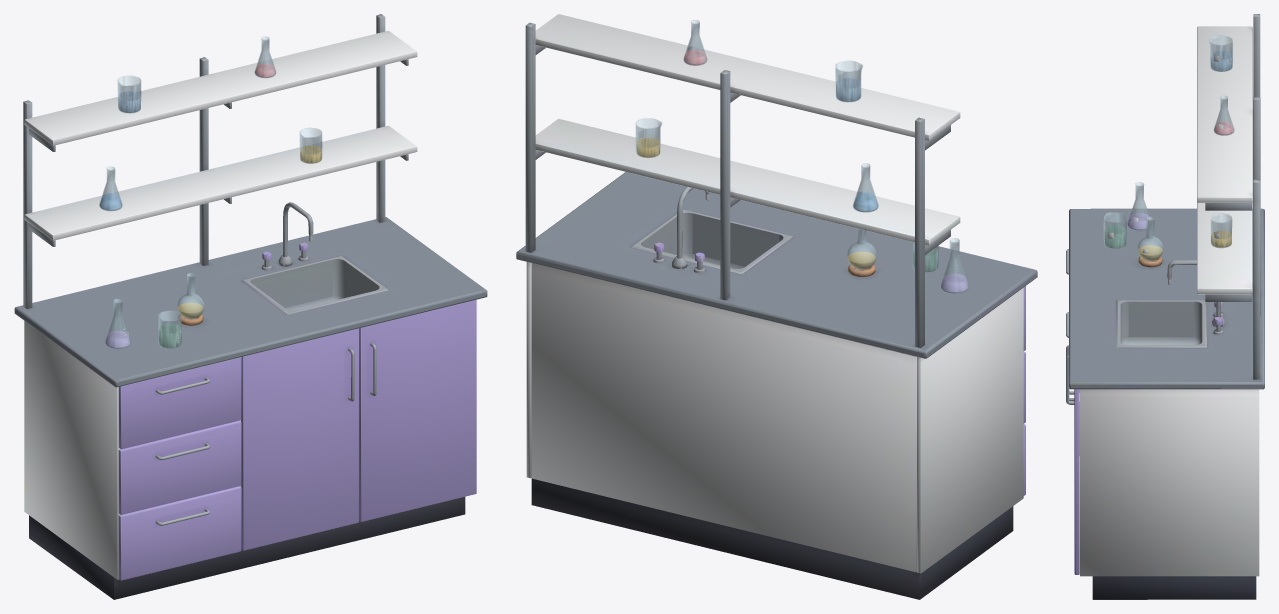
File: lab-bench.glb
The picture shows the model from 3 angles, left to right: view 1: azimuth 30°, elevation 25°; view 2: azimuth 150°, elevation 25°; view 3: azimuth 270°, elevation 25°; orthographic projection. The views are drawn at different scales.
Visible parts, largest first — view 1: lab-bench_body, lab-bench_door_left, lab-bench_door_right, lab-bench_drawer_3, lab-bench_drawer_2, lab-bench_drawer_1, lab-bench_glassware_glass, lab-bench_liquid_fluid; view 2: lab-bench_body, lab-bench_glassware_glass, lab-bench_liquid_fluid; view 3: lab-bench_body, lab-bench_glassware_glass, lab-bench_liquid_fluid, lab-bench_door_right.
Boxes of the visible parts, bbox=[...] form: lab-bench_body: bbox=[14, 14, 487, 599]; lab-bench_door_left: bbox=[241, 328, 359, 550]; lab-bench_door_right: bbox=[359, 299, 476, 521]; lab-bench_drawer_3: bbox=[118, 486, 241, 580]; lab-bench_drawer_2: bbox=[118, 420, 241, 514]; lab-bench_drawer_1: bbox=[118, 357, 241, 449]; lab-bench_glassware_glass: bbox=[99, 36, 322, 349]; lab-bench_liquid_fluid: bbox=[99, 63, 321, 348]; lab-bench_body: bbox=[516, 14, 1037, 599]; lab-bench_glassware_glass: bbox=[635, 20, 969, 293]; lab-bench_liquid_fluid: bbox=[636, 49, 968, 293]; lab-bench_body: bbox=[1069, 14, 1264, 599]; lab-bench_glassware_glass: bbox=[1103, 35, 1234, 261]; lab-bench_liquid_fluid: bbox=[1104, 50, 1233, 261]; lab-bench_door_right: bbox=[1066, 355, 1079, 574].
Bounding box in the file's own units: 1.52 × 1.79 × 0.7305.
8 materials, 8 textured.
